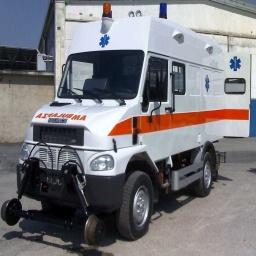ambulance: (1, 3, 248, 243)
